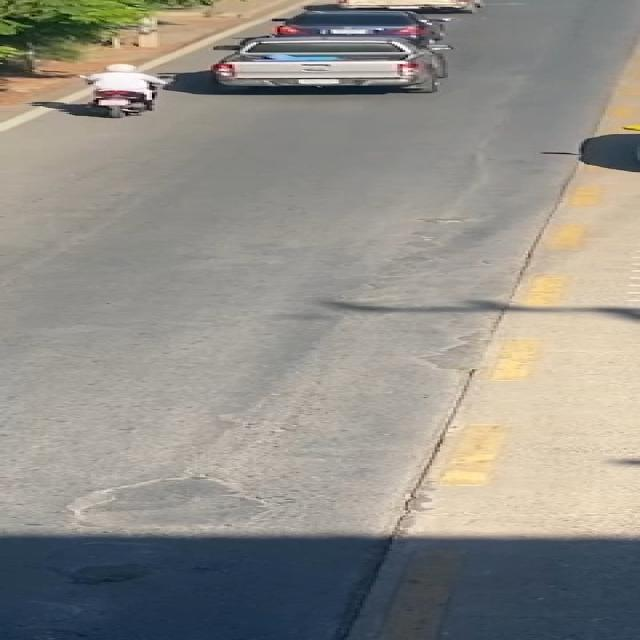car: (187, 33, 499, 99), (240, 9, 472, 43)
